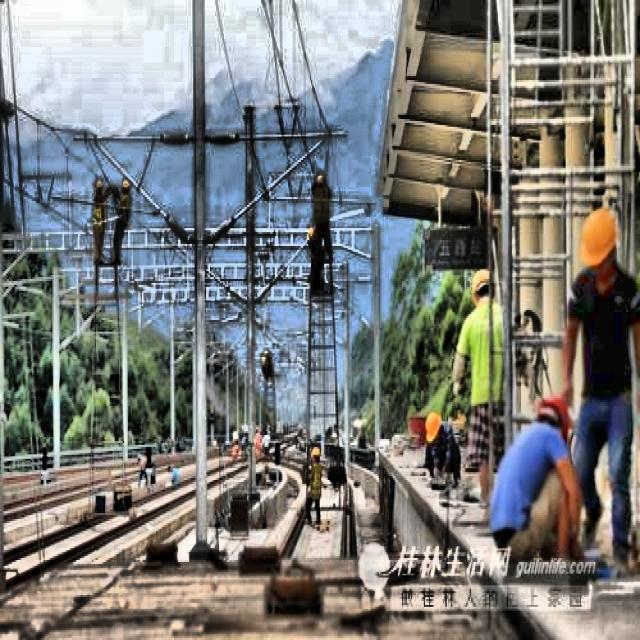helmet: (578, 203, 624, 287), (534, 384, 570, 449), (467, 266, 498, 306), (420, 408, 447, 447), (312, 168, 330, 193), (311, 443, 320, 464)
